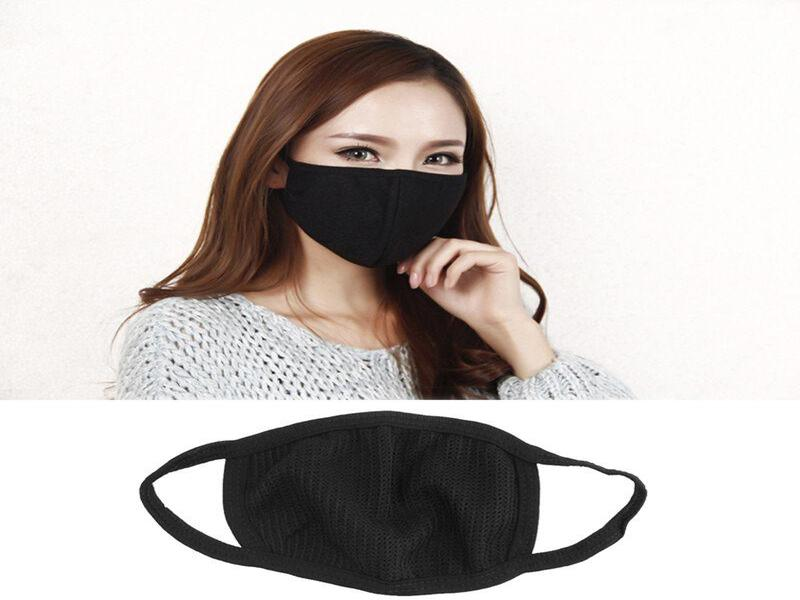with_mask: (241, 29, 477, 271)
